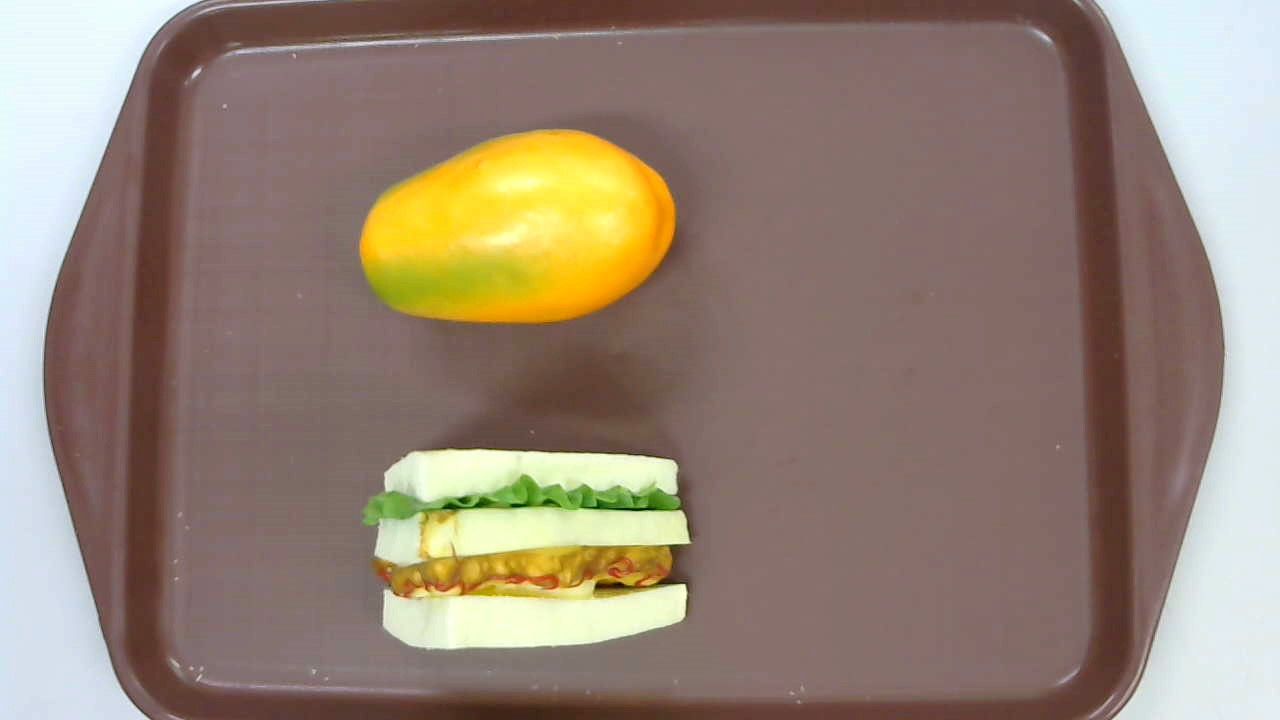papya: (360, 129, 678, 326)
sandwich: (360, 450, 692, 649)
